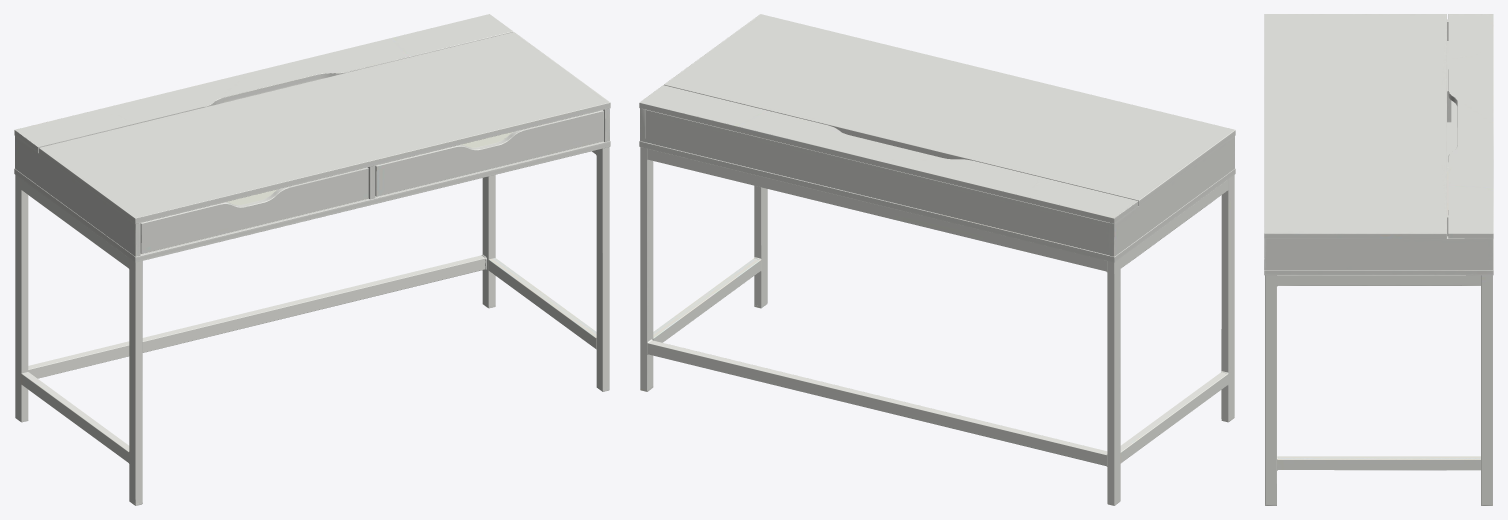
File: ALEX_80483438.glb
3 views of the same model, side by side, from view 1: azimuth 30°, elevation 25°; view 2: azimuth 150°, elevation 25°; view 3: azimuth 270°, elevation 25° (orthographic). The views are drawn at different scales.
Parts seen in each view (by area): view 1: 80483438-ALEX001; view 2: 80483438-ALEX001; view 3: 80483438-ALEX001.
Part boxes in pixels (x1,y1,x2,y2): 80483438-ALEX001: [14, 14, 610, 505]; 80483438-ALEX001: [639, 14, 1235, 505]; 80483438-ALEX001: [1264, 14, 1493, 505].
Size of the model in its own units: 1.31 by 0.761 by 0.58.
Materials: 1 (1 with a texture image).
